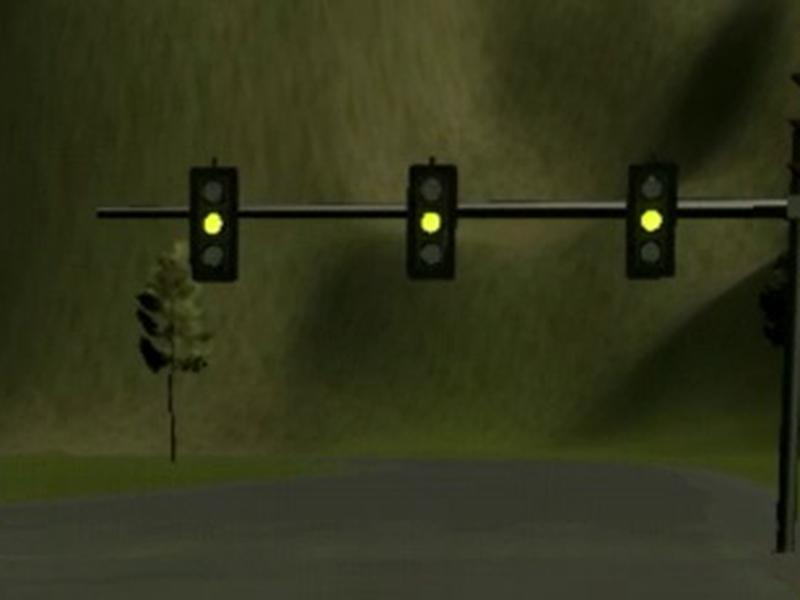Yellow: (626, 163, 678, 279), (406, 164, 457, 280), (188, 165, 238, 282)
